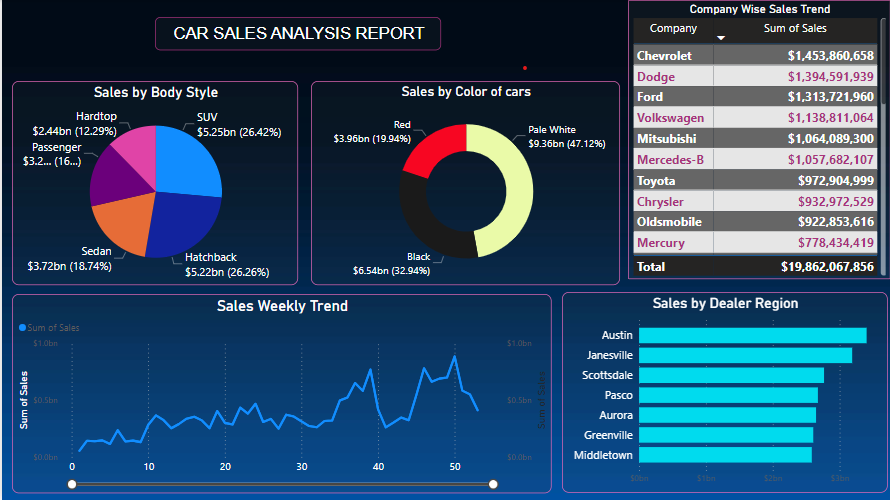

Layout of this report page (visuals, bound fields, positions):
{"tool":"powerbi","page":{"name":"sales weekly trend","canvas":[1280,720],"ordinal":0},"visuals":[{"type":"lineChart","title":"Sales Weekly Trend","fields":{"Y":["Sum(Sheet1.Annual Income)"],"Category":["Sheet1.weekday"],"Y2":["Sum(Sheet1.Annual Income)"]},"box":[13.7,422.7,776.6,286.9],"z":0},{"type":"pieChart","title":"Sales by Body Style","fields":{"Category":["Sheet1.Body Style"],"Y":["Sum(Sheet1.Annual Income)"]},"box":[13.7,116.8,412.3,293.8],"z":1000},{"type":"donutChart","title":"Sales by Color of cars","fields":{"Y":["Sum(Sheet1.Annual Income)"],"Category":["Sheet1.Color"]},"box":[445,116.8,445,293.8],"z":2000},{"type":"barChart","title":"Sales by Dealer Region","fields":{"Category":["Sheet1.Dealer_Region"],"Y":["Sum(Sheet1.Annual Income)"]},"box":[805.8,420.9,469,288.6],"z":3000},{"type":"tableEx","title":"Company Wise Sales Trend","fields":{"Values":["Sheet1.Company","Sum(Sheet1.Annual Income)"]},"box":[902,0,378,402],"z":4000},{"type":"textbox","box":[219.9,24.1,412.3,48.1],"z":7000}]}

Visuals, with their boxes in screenshot pixels (x1, y1, x2, y2), scaled from the page's 1280x720 canvas onto the 890x500 screenshot:
"Sales Weekly Trend" lineChart: (10, 294, 550, 493)
"Sales by Body Style" pieChart: (10, 81, 296, 285)
"Sales by Color of cars" donutChart: (309, 81, 619, 285)
"Sales by Dealer Region" barChart: (560, 292, 886, 493)
"Company Wise Sales Trend" tableEx: (627, 0, 889, 279)
textbox: (153, 17, 440, 50)
